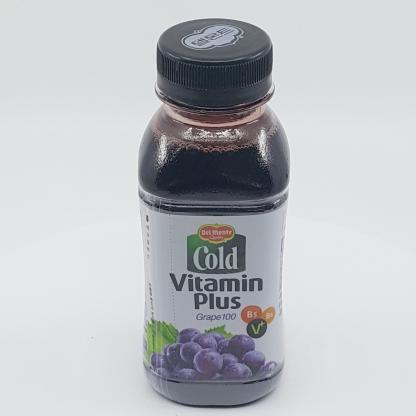---------------240ML: (137, 18, 290, 405)
